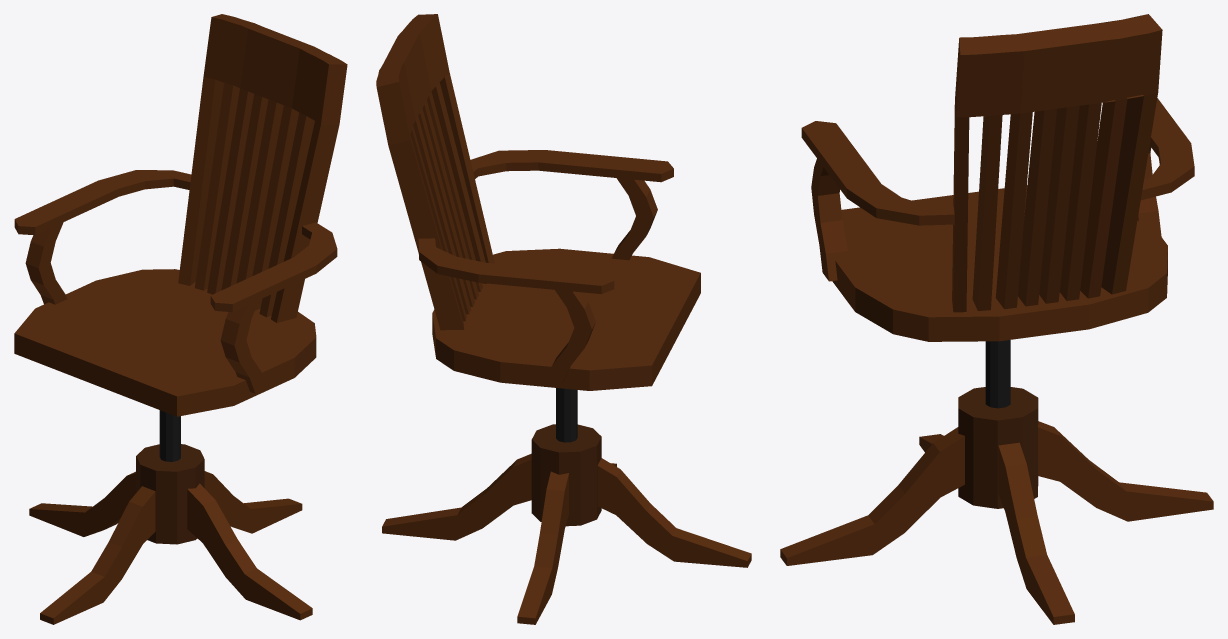
File: chair 4.fbx
3 renders of one model, left to right at view 1: azimuth 30°, elevation 25°; view 2: azimuth 150°, elevation 25°; view 3: azimuth 270°, elevation 25°, orthographic. The views are drawn at different scales.
Parts seen in each view (by area): view 1: chair 4; view 2: chair 4; view 3: chair 4.
Part boxes in pixels (x1,y1,x2,y2): chair 4: [14, 14, 347, 624]; chair 4: [376, 14, 751, 624]; chair 4: [780, 14, 1213, 624].
Bounding box in the file's own units: 72.71 × 105 × 71.1.
